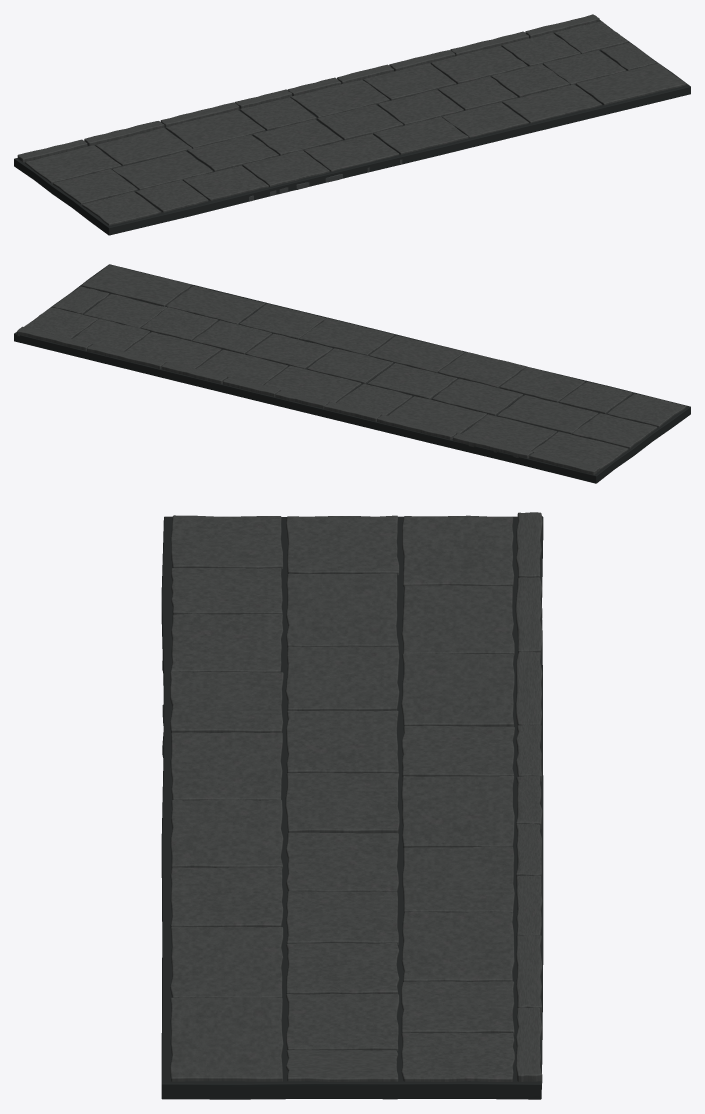
Rendered from terrace-v008.glb.
3 views of the same model, one above another, from view 1: azimuth 30°, elevation 25°; view 2: azimuth 150°, elevation 25°; view 3: azimuth 270°, elevation 25° (orthographic). The views are drawn at different scales.
Parts seen in each view (by area): view 1: v008 | damp fractured basalt consolidated, v008 | damp recessed lime joints consolidated; view 2: v008 | damp fractured basalt consolidated, v008 | damp recessed lime joints consolidated; view 3: v008 | damp fractured basalt consolidated, v008 | damp recessed lime joints consolidated.
Part boxes in pixels (<box>): v008 | damp fractured basalt consolidated: <box>17,14,686,225</box>; v008 | damp recessed lime joints consolidated: <box>14,20,690,235</box>; v008 | damp fractured basalt consolidated: <box>17,264,686,474</box>; v008 | damp recessed lime joints consolidated: <box>14,264,690,483</box>; v008 | damp fractured basalt consolidated: <box>169,512,542,1083</box>; v008 | damp recessed lime joints consolidated: <box>161,516,543,1099</box>.
Size of the model in its own units: 47.06 by 0.879 by 13.37.
3 materials, 1 textured.
